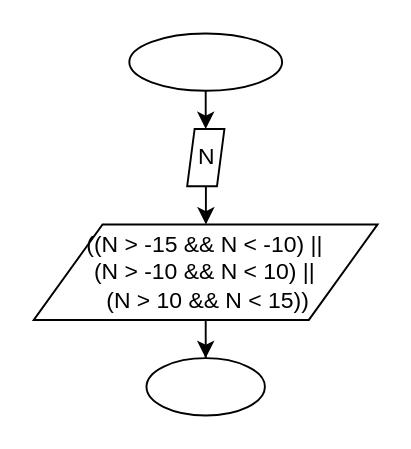
The diagram is 411 pixels wide and 449 high, and some of its shapes have lost their labels. Here are the shapes that lost their labels. From the top down, the centre of each, then its label:
At pixel 204 61: "Начало".
At pixel 205 385: "Конец".
